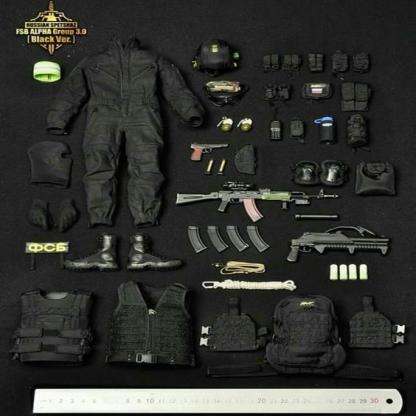Grenade: (216, 113, 234, 133), (237, 113, 255, 132)
Gun: (174, 179, 342, 223), (285, 223, 392, 269)
Pistol: (188, 141, 231, 162)
